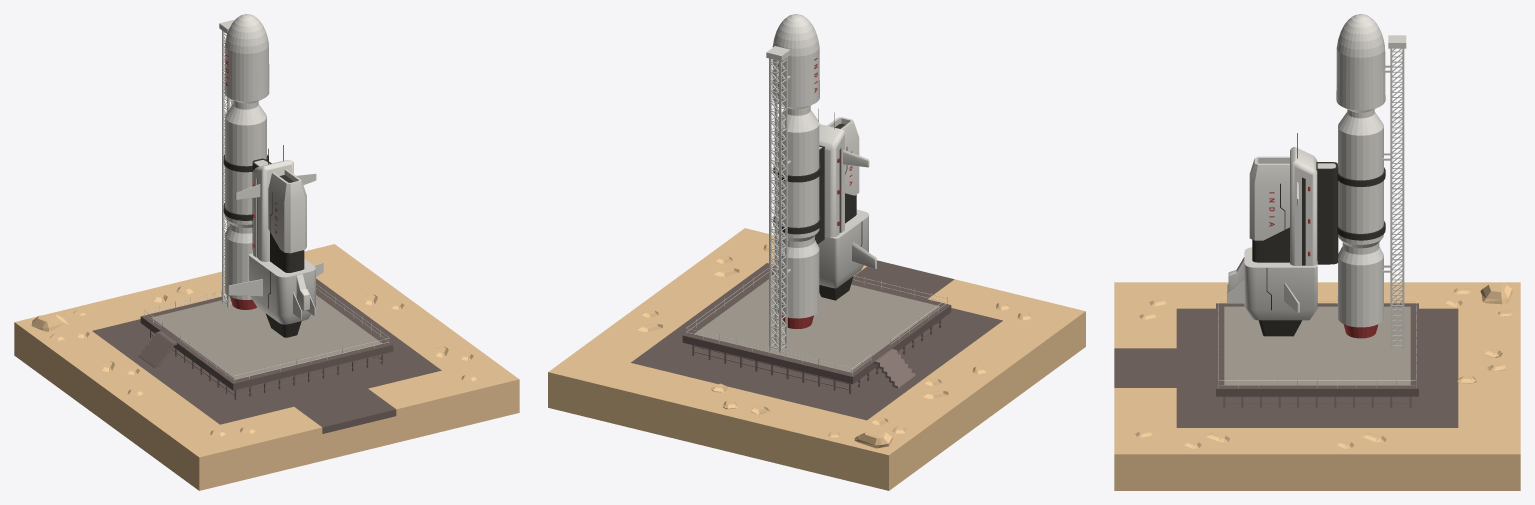
Rendered from 00 Space_1.FBX.
The picture shows the model from 3 angles, left to right: view 1: azimuth 30°, elevation 25°; view 2: azimuth 150°, elevation 25°; view 3: azimuth 270°, elevation 25°; orthographic projection. The views are drawn at different scales.
Visible parts, largest first — view 1: Base, Launching_pad_1, Rocket_Booster, Rocket_Booster_1, Launching_pad_2; view 2: Base, Launching_pad_1, Rocket_Booster_1, Rocket_Booster, Launching_pad_2; view 3: Base, Launching_pad_1, Rocket_Booster, Rocket_Booster_1, Launching_pad_2.
Part boxes in pixels (x1,y1,x2,y2): Base: (14,244,519,490); Launching_pad_1: (138,284,393,400); Rocket_Booster: (228,145,323,337); Rocket_Booster_1: (223,14,269,309); Launching_pad_2: (219,20,234,307); Base: (548,228,1085,490); Launching_pad_1: (682,263,951,393); Rocket_Booster_1: (772,14,820,328); Rocket_Booster: (777,109,876,300); Launching_pad_2: (766,46,790,352); Base: (1114,282,1520,490); Launching_pad_1: (1216,296,1418,408); Rocket_Booster: (1227,133,1338,336); Rocket_Booster_1: (1336,14,1385,338); Launching_pad_2: (1382,35,1406,349).
Size of the model in its own units: 10000 by 10585 by 10000.
